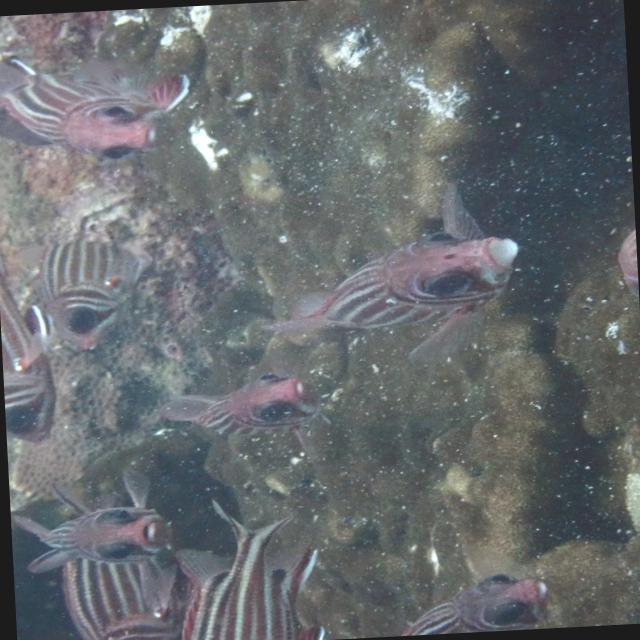Asker Baligi: (254, 225, 525, 372), (0, 44, 195, 167)
